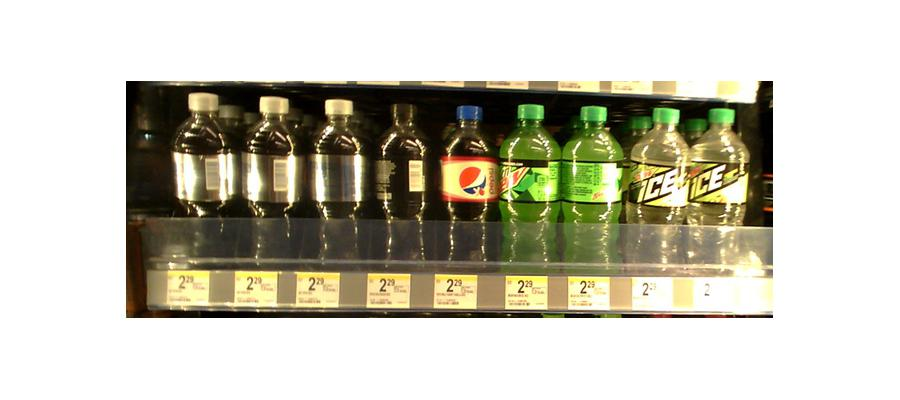bottle: (307, 97, 370, 268), (170, 91, 235, 256), (625, 101, 688, 271), (560, 103, 622, 274), (689, 102, 751, 273), (435, 104, 497, 269), (240, 95, 299, 266), (372, 101, 432, 267), (500, 101, 557, 274)
